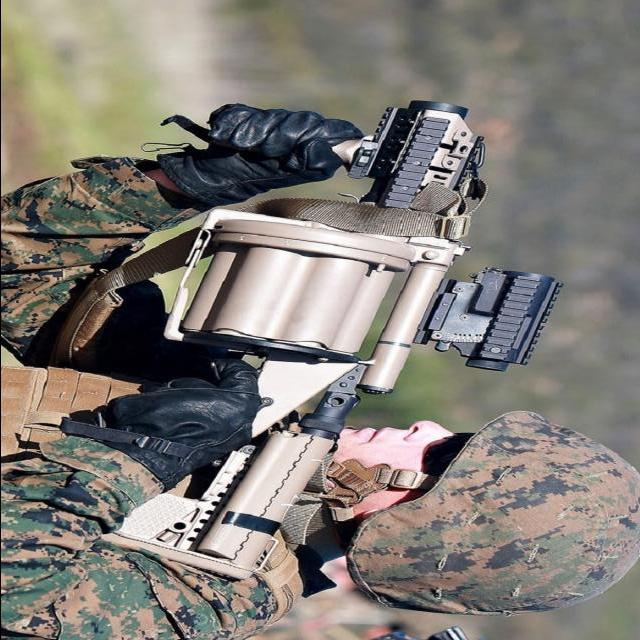rocket launcher: (87, 74, 573, 587)
